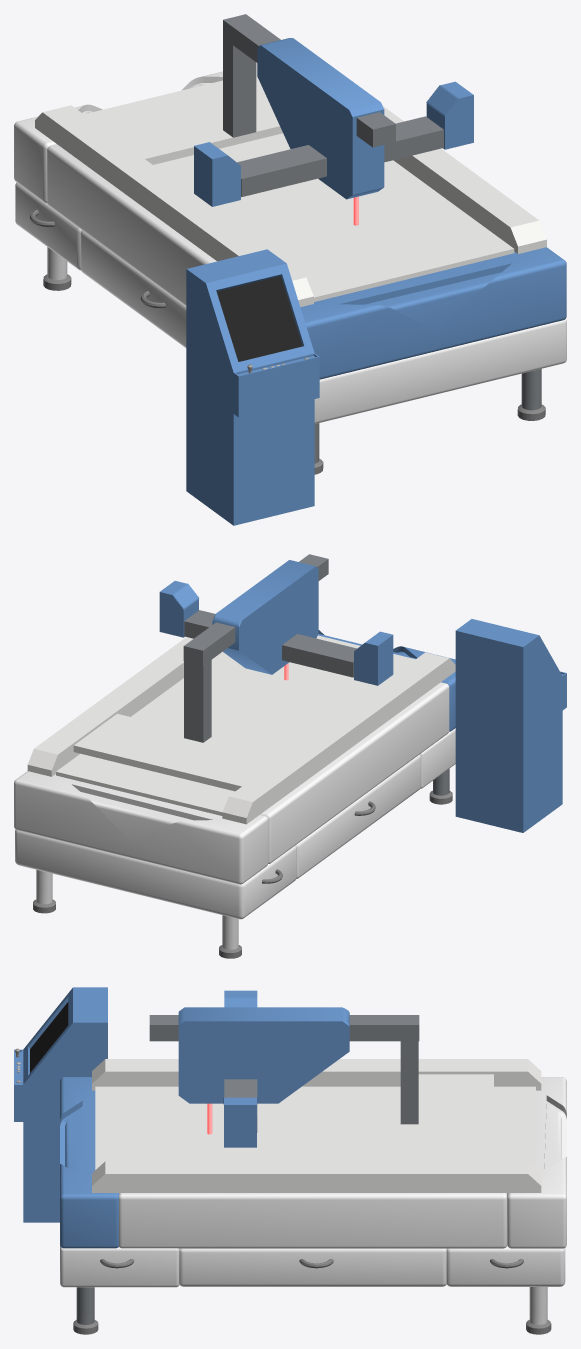
File: Laser.gltf
3 renders of one model, top to bottom at view 1: azimuth 30°, elevation 25°; view 2: azimuth 150°, elevation 25°; view 3: azimuth 270°, elevation 25°, orthographic. The views are drawn at different scales.
Visible parts, largest first — view 1: Cube.9-플라스틱, Cube.1, Cube.2, Cube, Cube.13, Cube.6, Cube.3, Cube.5, Cube.9-액정, Cube.10, Cube.7, Cube.15 (+6 smaller); view 2: Cube.9-플라스틱, Cube.1, Cube.4, Cube, Cube.3, Cube.8, Cube.5, Cube.13, Cube.7, Cube.10, Cube.15, Cube.14 (+5 smaller); view 3: Cube.1, Cube.3, Cube, Cube.13, Cube.9-플라스틱, Cube.7, Cube.5, Cube.2, Cube.4, Cube.6, Cube.8, Cube.14 (+6 smaller).
Part boxes in pixels (x1,y1,x2,y2): Cube.9-플라스틱: (186, 249, 319, 525); Cube.1: (84, 72, 514, 301); Cube.2: (300, 247, 566, 379); Cube: (35, 105, 546, 307); Cube.13: (257, 38, 384, 199); Cube.6: (314, 319, 566, 423); Cube.3: (47, 144, 216, 305); Cube.5: (93, 80, 282, 164); Cube.9-액정: (217, 276, 302, 361); Cube.10: (237, 116, 443, 196); Cube.7: (80, 230, 186, 347); Cube.15: (223, 37, 256, 137); Cube.9-플라스틱: (455, 619, 566, 832); Cube.1: (56, 635, 415, 815); Cube.4: (14, 771, 268, 884); Cube: (27, 637, 455, 824); Cube.3: (260, 682, 449, 863); Cube.8: (15, 829, 296, 919); Cube.5: (73, 713, 284, 791); Cube.13: (212, 560, 318, 674); Cube.7: (295, 754, 420, 878); Cube.10: (184, 610, 357, 677); Cube.15: (184, 659, 211, 742); Cube.14: (183, 554, 328, 665); Cube.1: (95, 1086, 535, 1169); Cube.3: (119, 1193, 507, 1248); Cube: (92, 1059, 541, 1192); Cube.13: (178, 1007, 349, 1103); Cube.9-플라스틱: (14, 987, 107, 1222); Cube.7: (179, 1248, 446, 1286); Cube.5: (401, 1074, 493, 1161); Cube.2: (60, 1077, 118, 1248); Cube.4: (507, 1077, 566, 1248); Cube.6: (60, 1246, 179, 1287); Cube.8: (446, 1246, 565, 1286); Cube.14: (149, 1015, 419, 1041).
Bounding box in the file's own units: 12.76 × 9.93 × 18.45.
